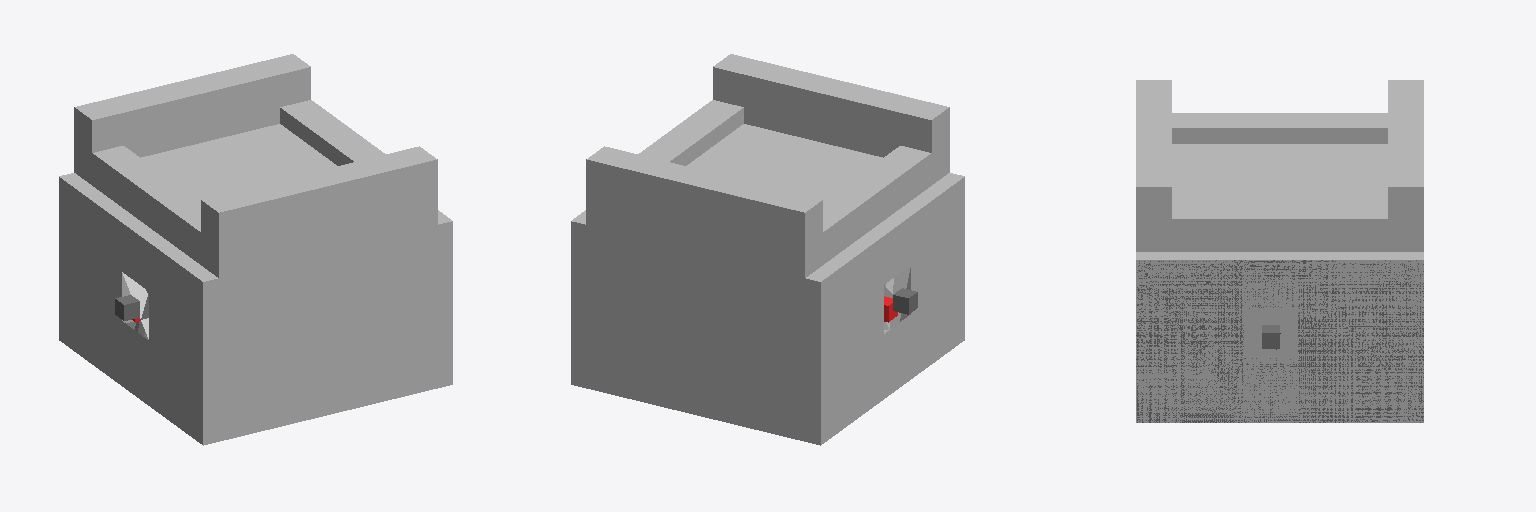
The model's file is healing_machine.obj.
3 views of the same model, side by side, from view 1: azimuth 30°, elevation 25°; view 2: azimuth 150°, elevation 25°; view 3: azimuth 270°, elevation 25° (orthographic).
Size of the model in its own units: 18 by 15 by 16.